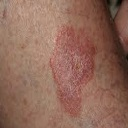Bowen: (51, 24, 96, 117)
